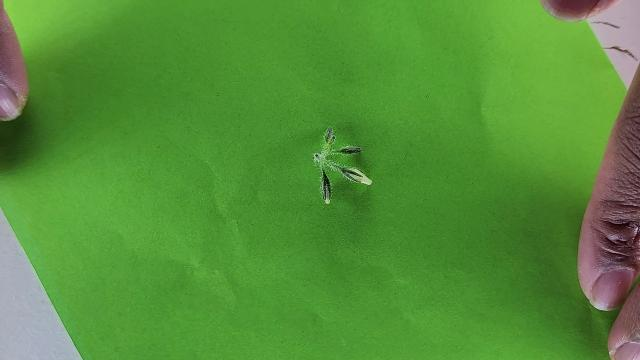Flower Bud: (339, 166, 373, 186), (320, 168, 331, 204), (328, 145, 364, 156)
